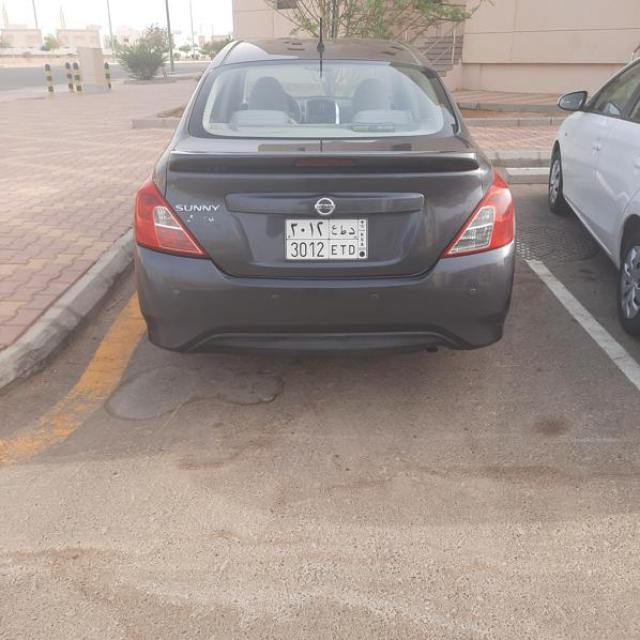license_plate: (284, 218, 370, 263)
